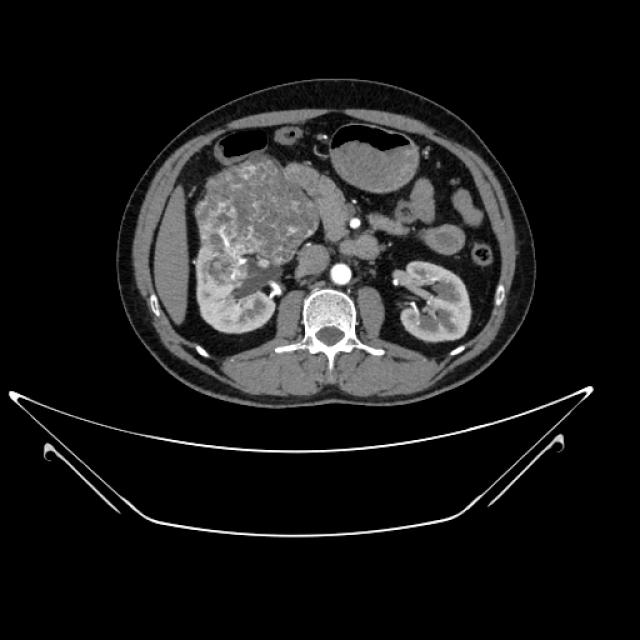Tumor: (195, 155, 315, 281)
